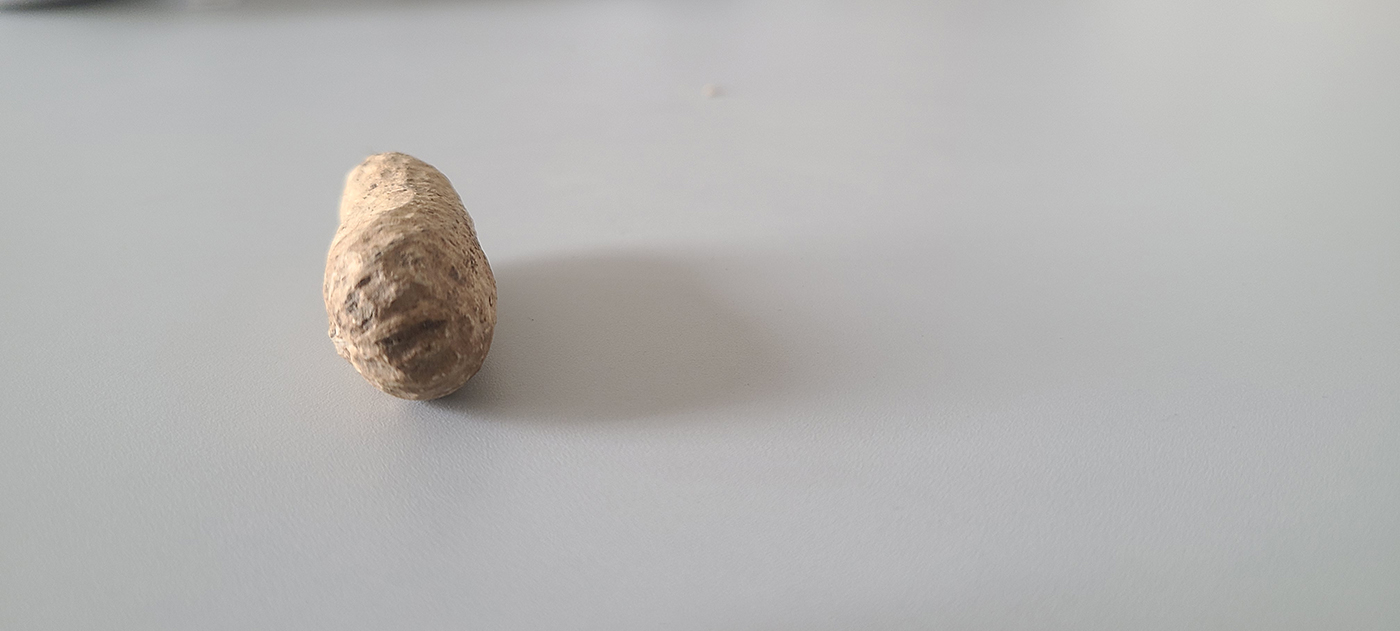h: (322, 146, 499, 400)
